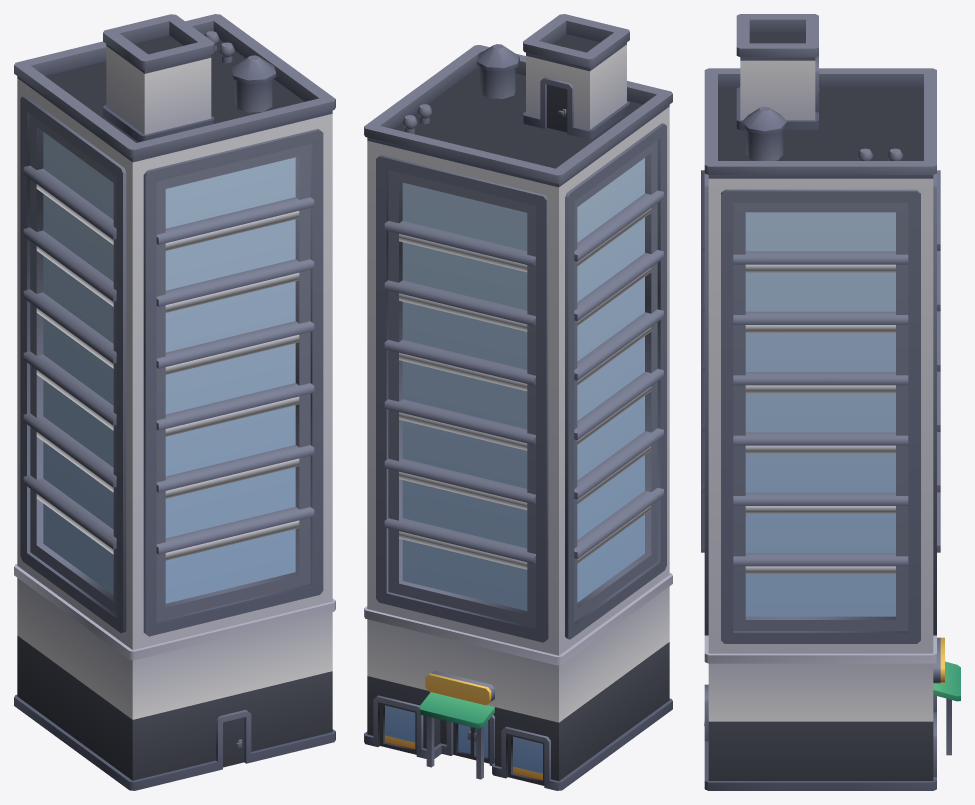
Rendered from tower_2.fbx.
The picture shows the model from 3 angles, left to right: view 1: azimuth 30°, elevation 25°; view 2: azimuth 150°, elevation 25°; view 3: azimuth 270°, elevation 25°; orthographic projection. The views are drawn at different scales.
Parts seen in each view (by area): view 1: tower_2; view 2: tower_2; view 3: tower_2.
Part boxes in pixels (x1=…): tower_2: x1=14, y1=14, x2=335, y2=790; tower_2: x1=364, y1=14, x2=672, y2=790; tower_2: x1=701, y1=14, x2=960, y2=790.
Size of the model in its own units: 1.28 by 4.08 by 1.39.
1 material, 1 textured.
